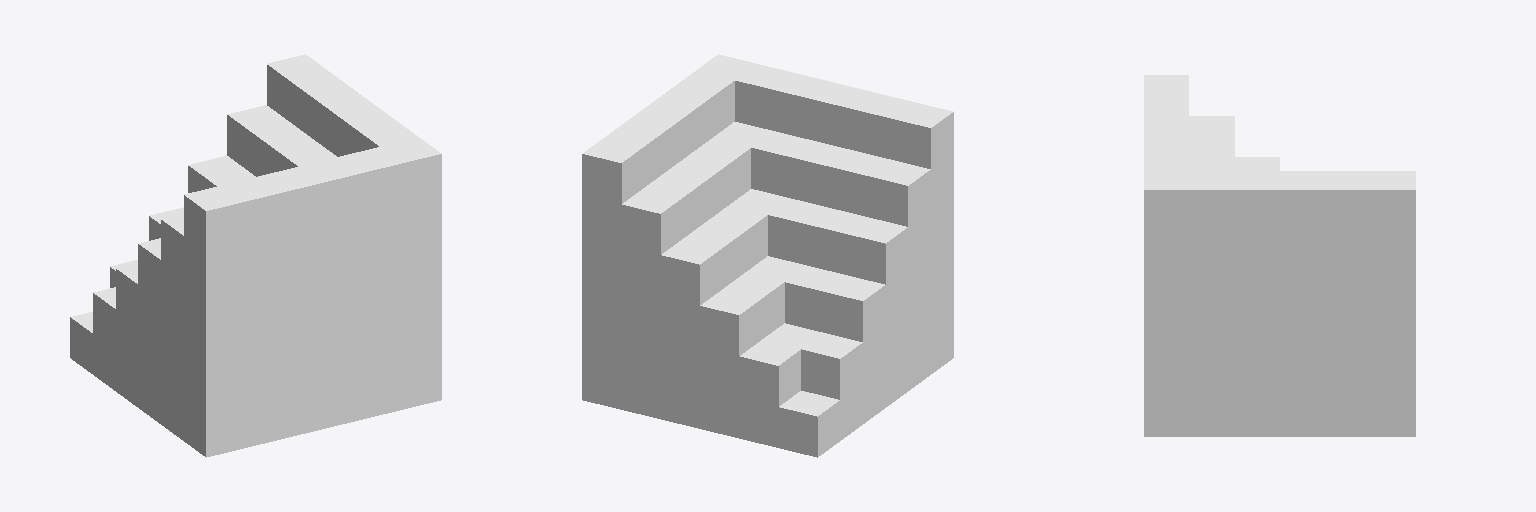
Rendered from CornerBlockB.obj.
The picture shows the model from 3 angles: view 1: azimuth 30°, elevation 25°; view 2: azimuth 150°, elevation 25°; view 3: azimuth 270°, elevation 25°; orthographic projection.
Parts seen in each view (by area): view 1: object 1; view 2: object 1; view 3: object 1.
Part boxes in pixels (left/top/right/bottom): object 1: left=70, top=54, right=441, bottom=457; object 1: left=582, top=54, right=953, bottom=457; object 1: left=1144, top=75, right=1415, bottom=436.
Size of the model in its own units: 0.6 by 0.6 by 0.6.